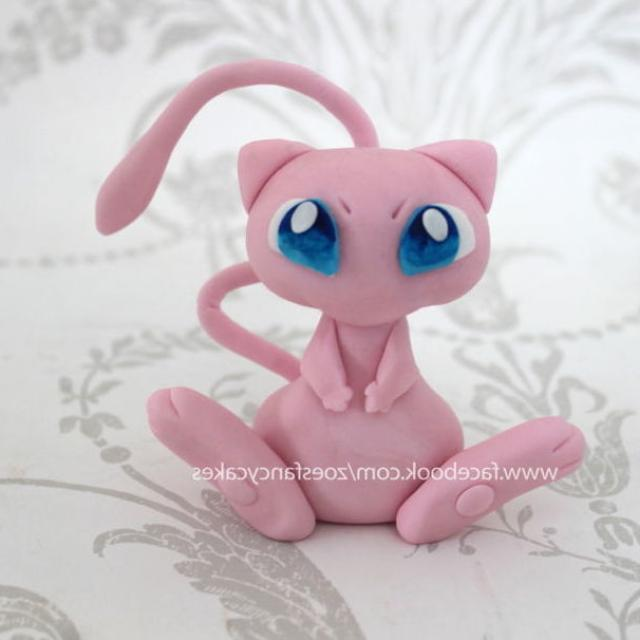Mew: (224, 140, 491, 536)
